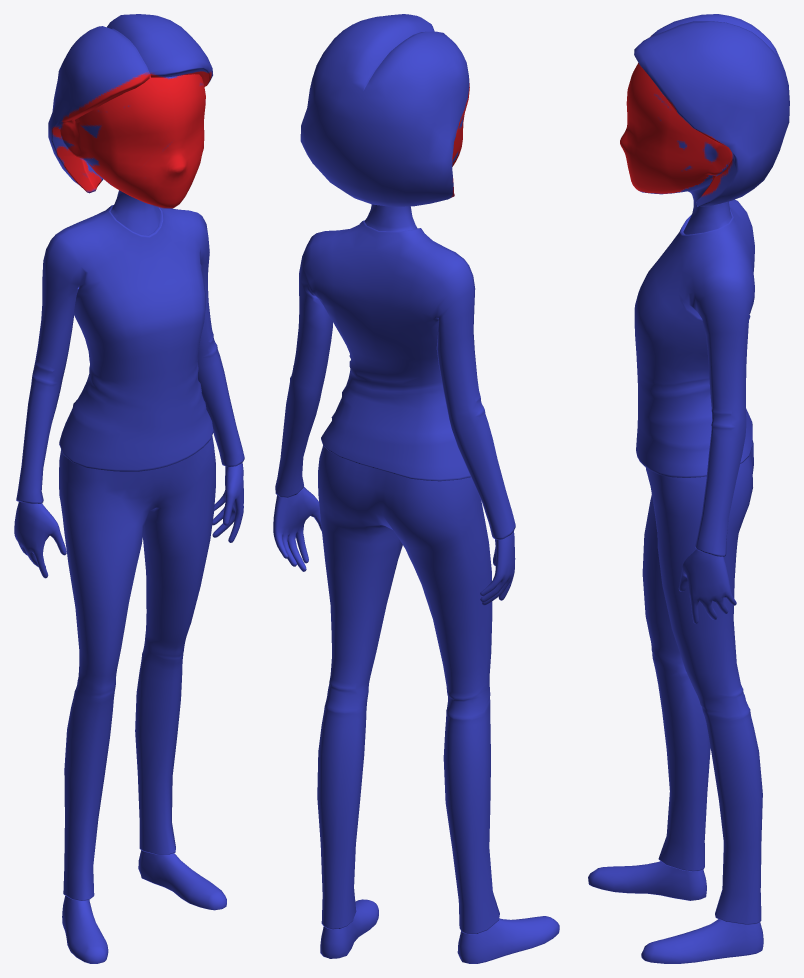
Rendered from asset.glb.
3 renders of one model, left to right at view 1: azimuth 30°, elevation 25°; view 2: azimuth 150°, elevation 25°; view 3: azimuth 270°, elevation 25°, orthographic. The views are drawn at different scales.
Visible parts, largest first — view 1: mesh_id27; view 2: mesh_id27; view 3: mesh_id27.
Boxes of the visible parts, x1,y1,x2,y2 form: mesh_id27: [14, 14, 244, 963]; mesh_id27: [273, 14, 559, 963]; mesh_id27: [588, 14, 789, 963].
Bounding box in the file's own units: 0.1058 × 0.3959 × 0.0796.
Materials: 1 (1 with a texture image).
